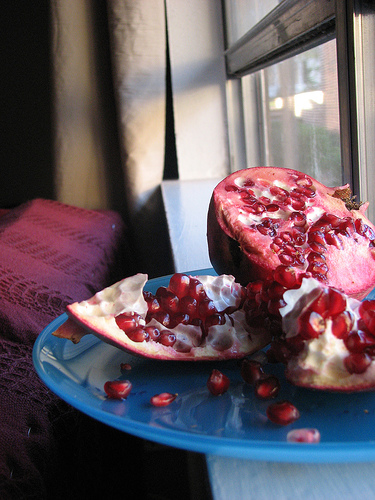pomogranate: (208, 165, 373, 303), (265, 400, 301, 427)
